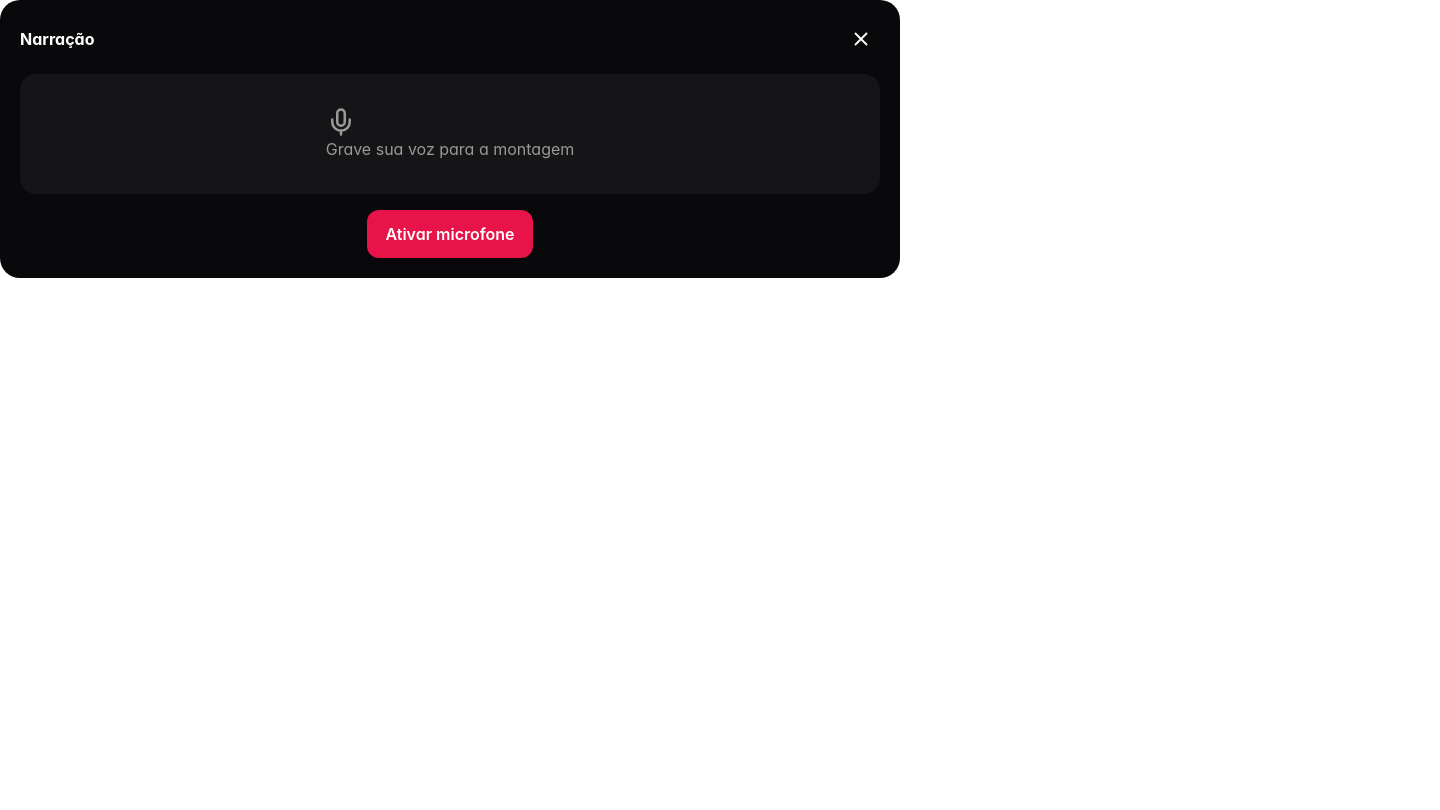
it: StudioRecorder com lifecycle React real › aprovar descarte durante REC encerra somente a captura autorizada e não salva um File
Click the button "Ativar microfone".
click(450, 234)  # box [368,210,532,258]
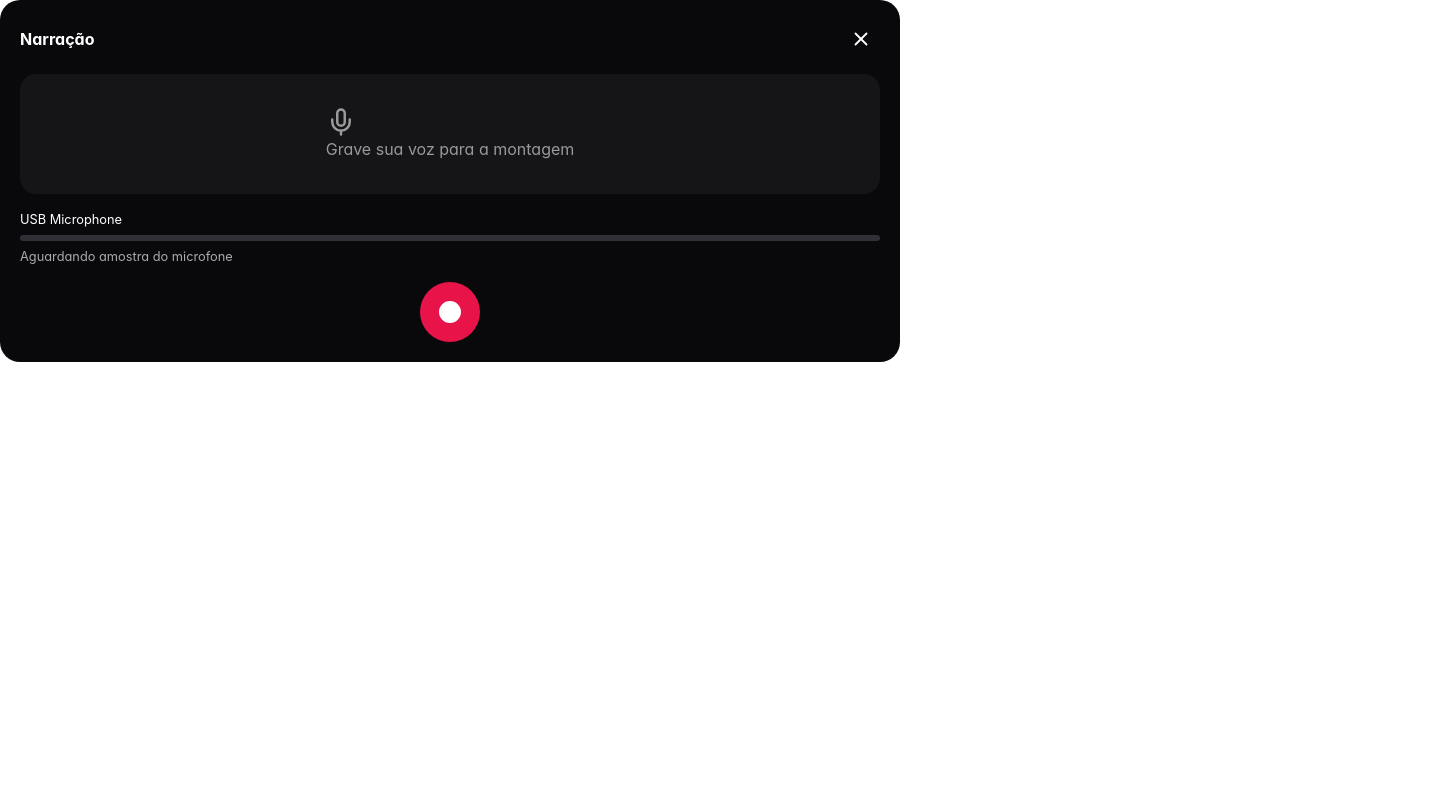
Click the button named "Iniciar gravação".
click(450, 312)  # box [420,282,480,342]
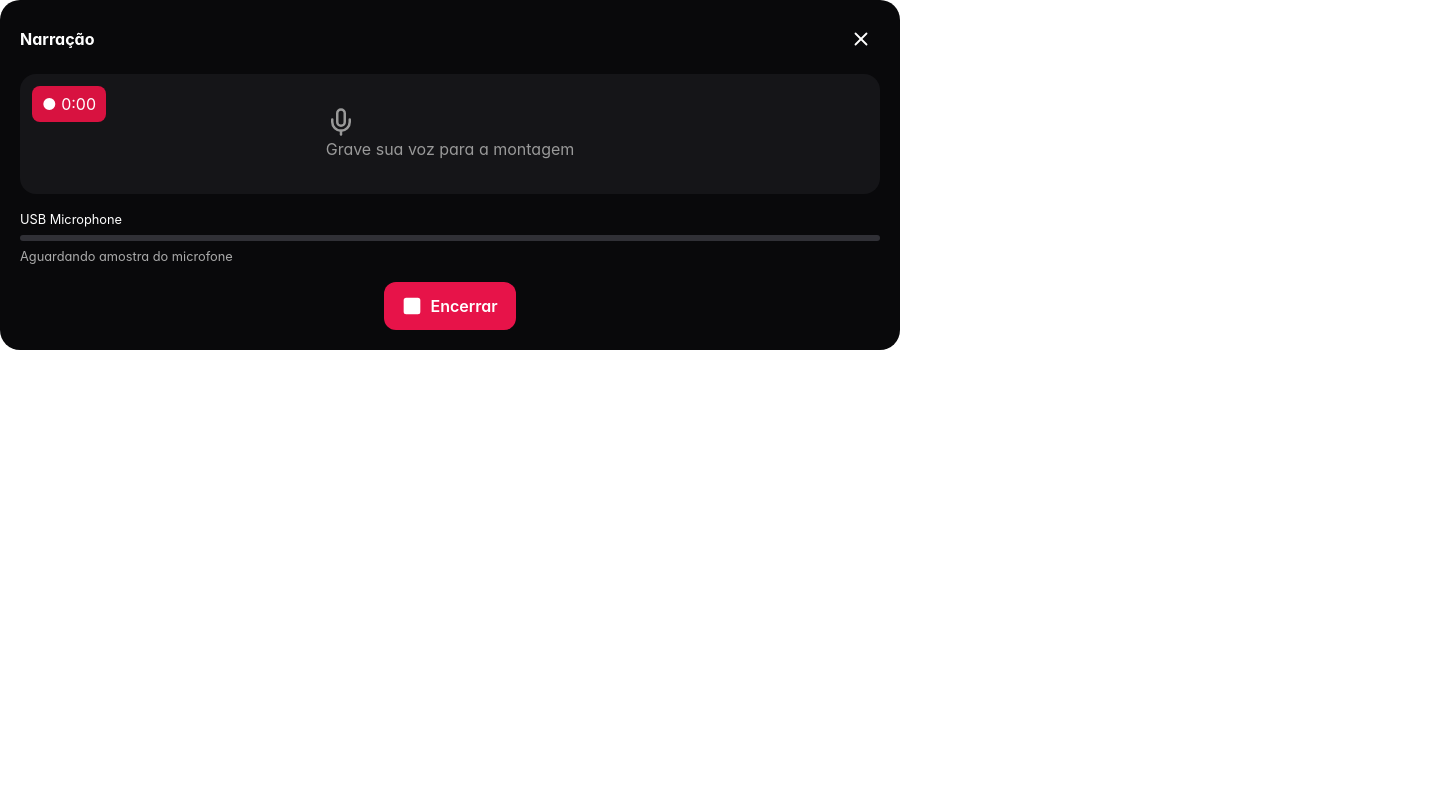
Click the button named "Fechar gravação".
click(861, 39)  # box [842,20,880,58]
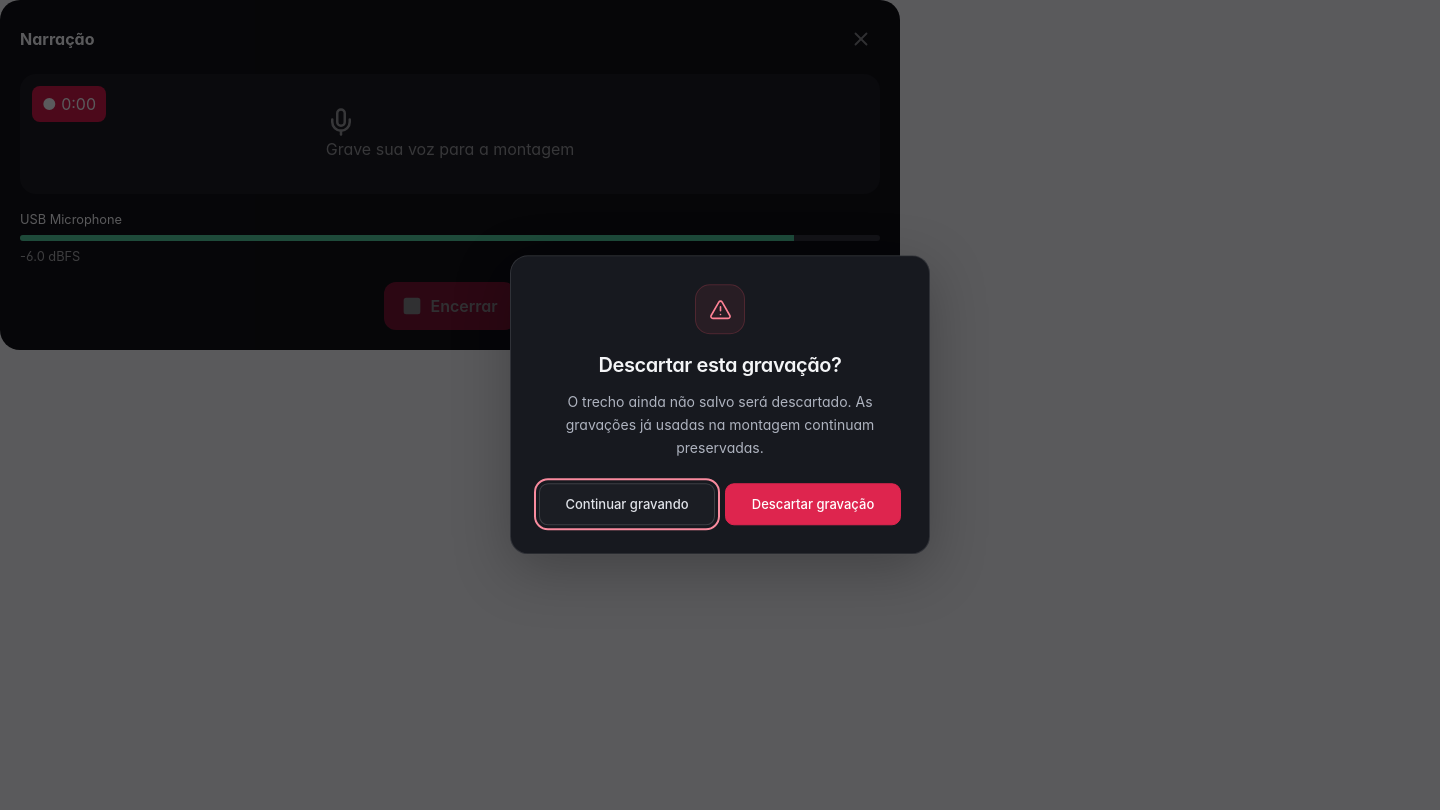
Check: the dialog is shown, box [510,255,930,555]
Check: the button "Descartar gravação" is shown
Click the button "Descartar gravação".
click(813, 505)  # box [725,484,901,526]
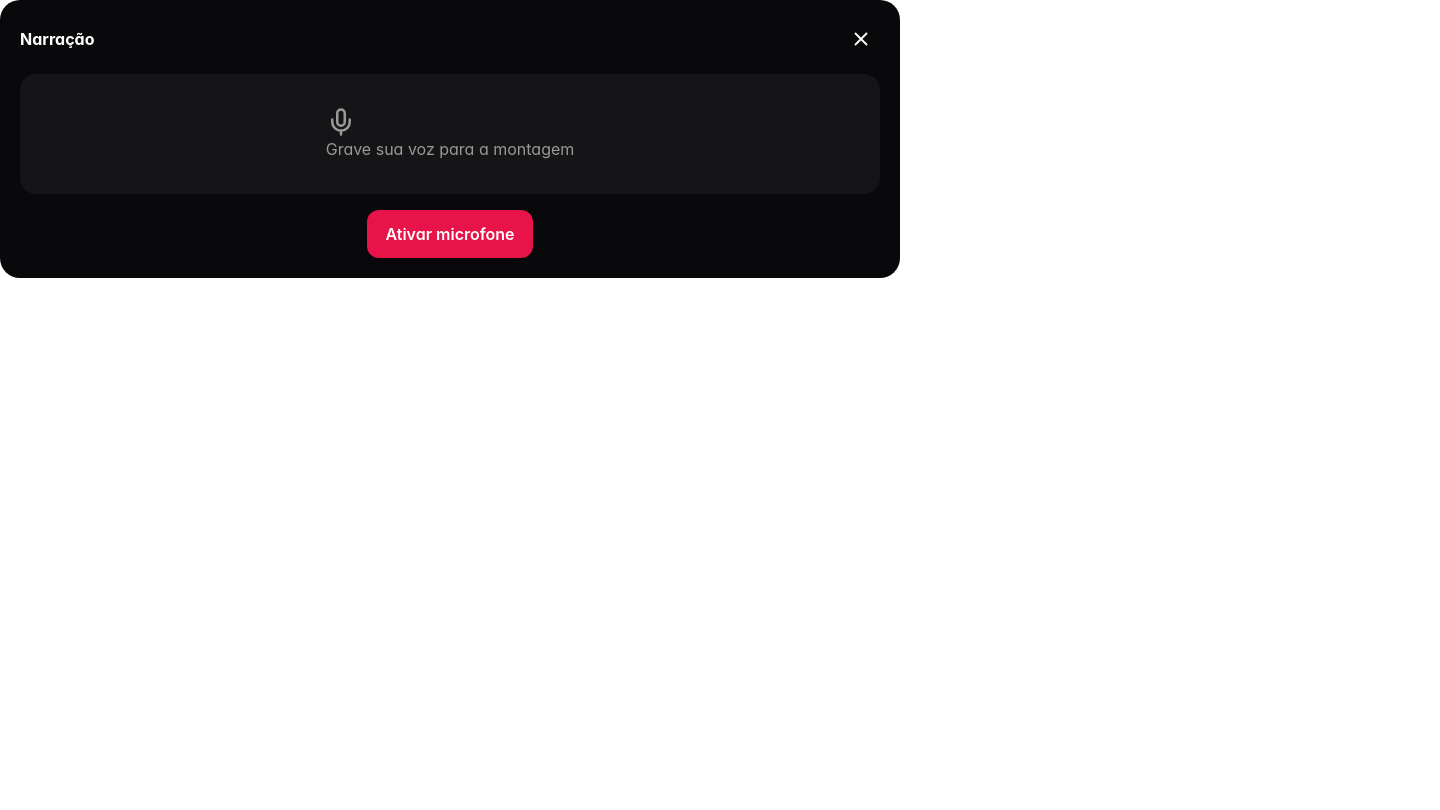
Check: the text "Ativar microfone" is shown, box [368,210,532,258]
